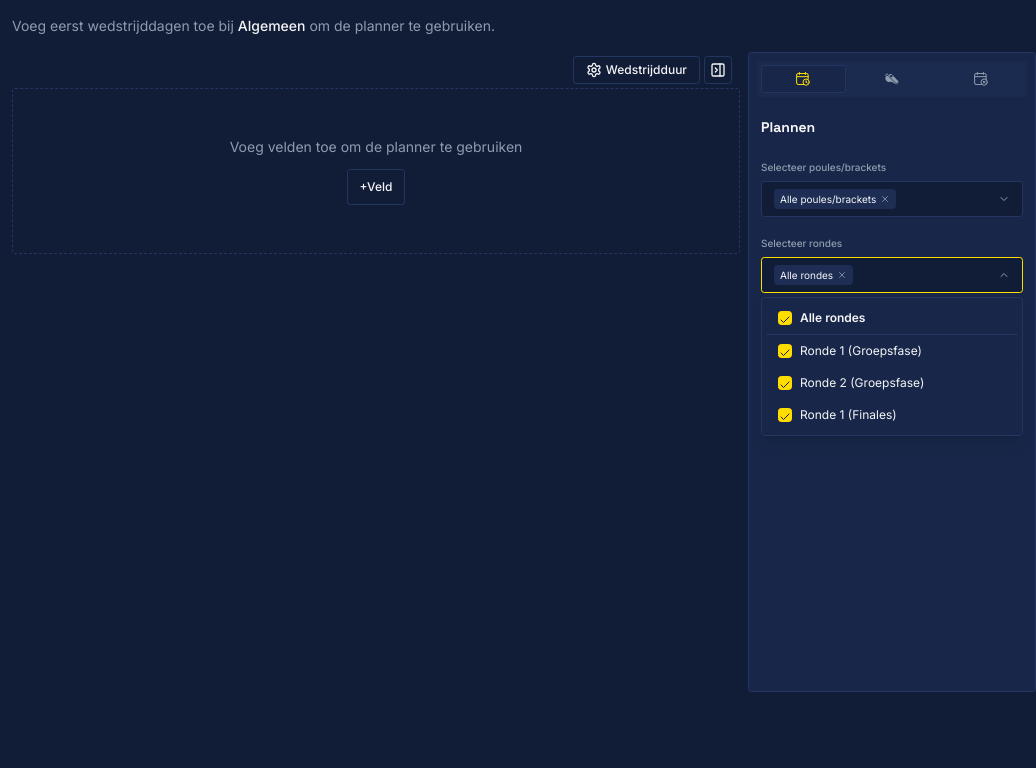
unchecking All rounds preserves the selected group and bracket
Earlier steps of the test are not shown.
Click the text "Alle rondes" at point(892, 318), box [766, 302, 1018, 335]
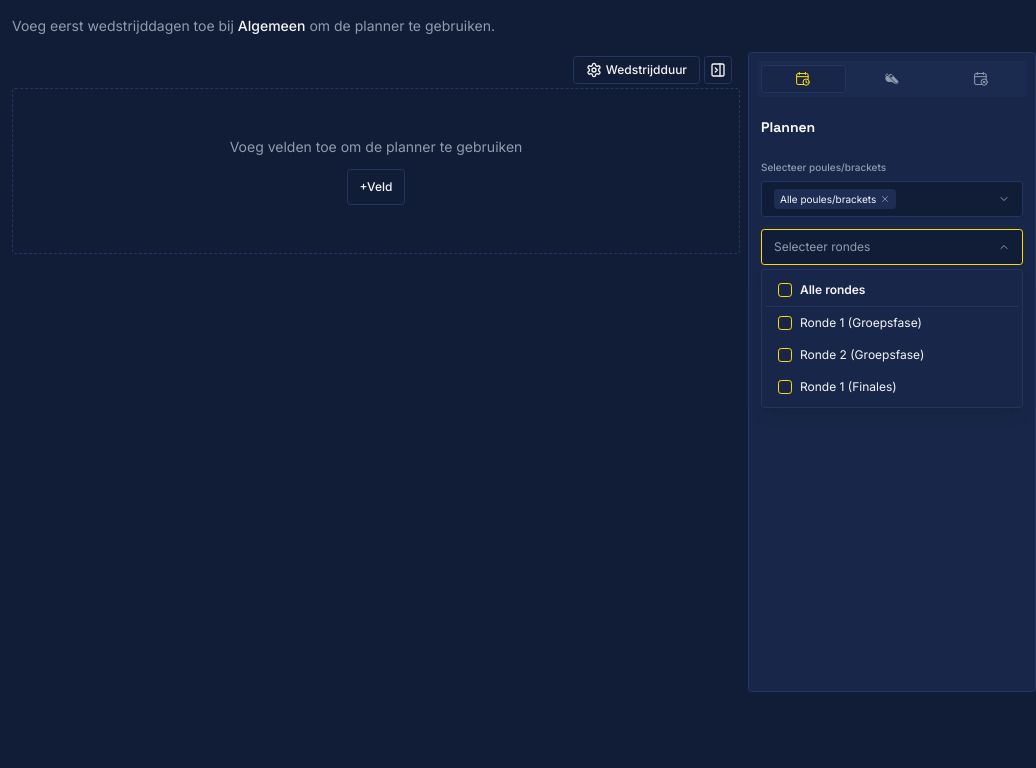
Check: the checkbox next to "Ronde 1 (Groepsfase)" is not checked, box [778, 316, 792, 330]
Click the button "Alle poules/brackets" at point(892, 199), box [761, 181, 1023, 217]
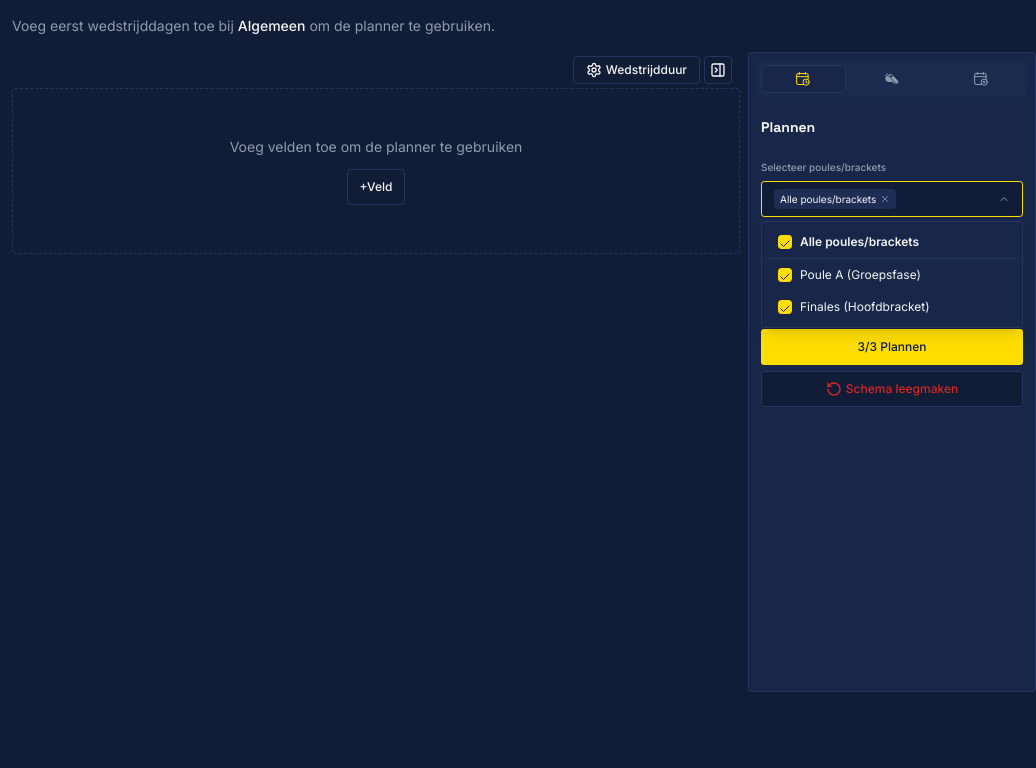
Check: the number of checkboxes is 3, box [778, 235, 792, 249]; [778, 268, 792, 282]; [778, 300, 792, 314]
